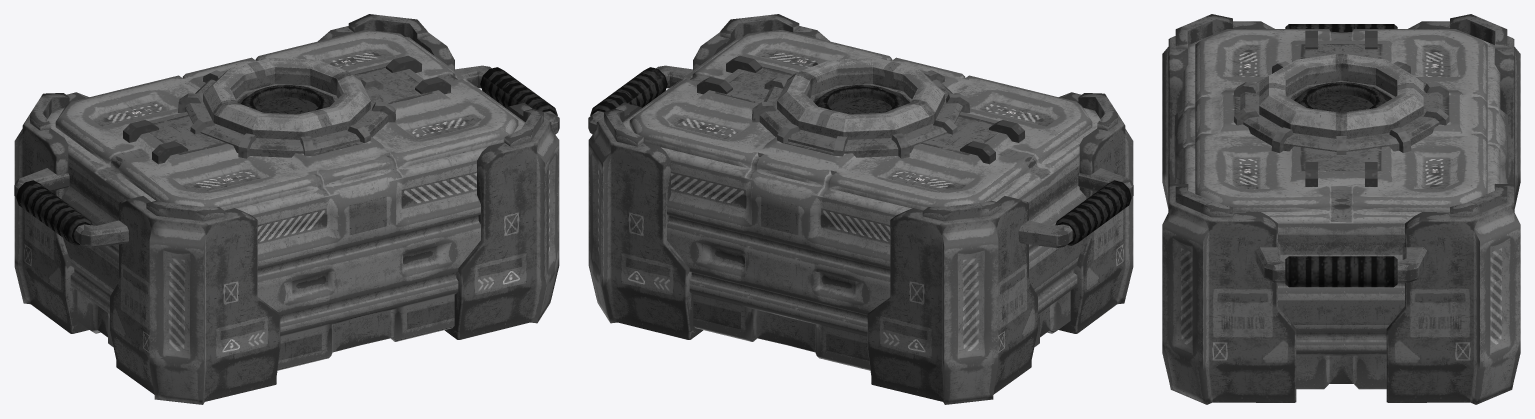
Rendered from holoBox_model.fbx.
3 renders of one model, left to right at view 1: azimuth 30°, elevation 25°; view 2: azimuth 150°, elevation 25°; view 3: azimuth 270°, elevation 25°, orthographic. The views are drawn at different scales.
Parts seen in each view (by area): view 1: Box_001_0025_lowres2; view 2: Box_001_0025_lowres2; view 3: Box_001_0025_lowres2.
Part boxes in pixels (<box>): Box_001_0025_lowres2: <box>14,14,559,404</box>; Box_001_0025_lowres2: <box>588,14,1133,404</box>; Box_001_0025_lowres2: <box>1162,14,1520,404</box>.
Size of the model in its own units: 4.58 by 1.91 by 2.82.
